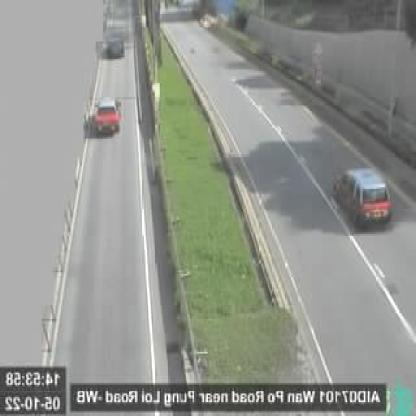Car: (333, 166, 391, 227), (95, 97, 122, 139), (108, 33, 126, 61)
